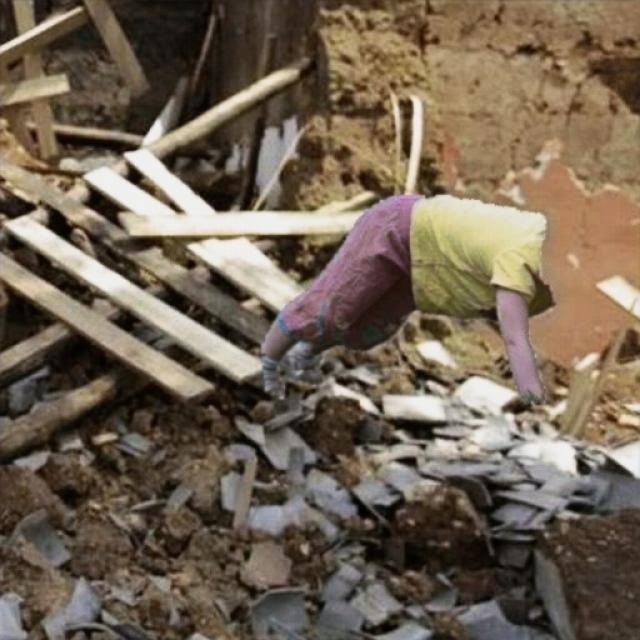Person in Rubble: (260, 195, 555, 405)
